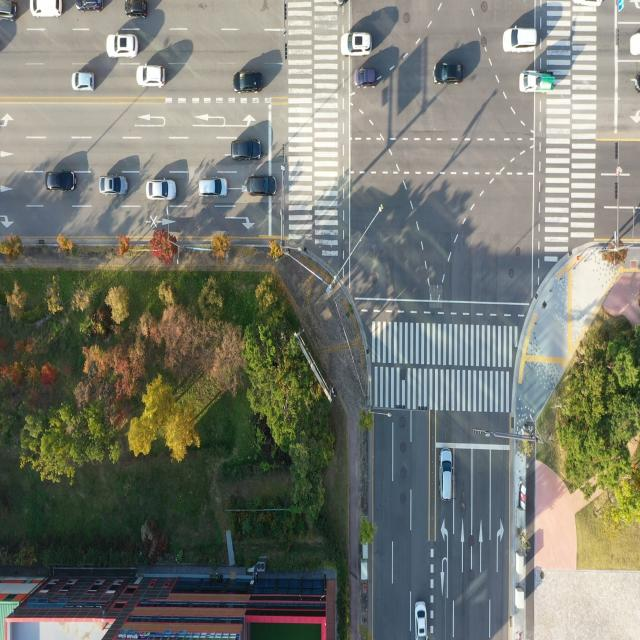car: (501, 25, 541, 53), (104, 29, 137, 58), (233, 68, 262, 95), (441, 448, 455, 503), (136, 62, 168, 86), (432, 60, 464, 83), (232, 140, 262, 163), (146, 182, 175, 205), (26, 0, 63, 18), (47, 172, 76, 194), (249, 176, 278, 198), (341, 34, 372, 54), (199, 178, 227, 198), (100, 176, 126, 197), (352, 67, 378, 87), (72, 71, 94, 94), (122, 0, 149, 18), (415, 601, 428, 638), (0, 0, 20, 22), (625, 32, 640, 60), (74, 0, 106, 13), (630, 68, 640, 96)
small_truck: (518, 69, 556, 95)
